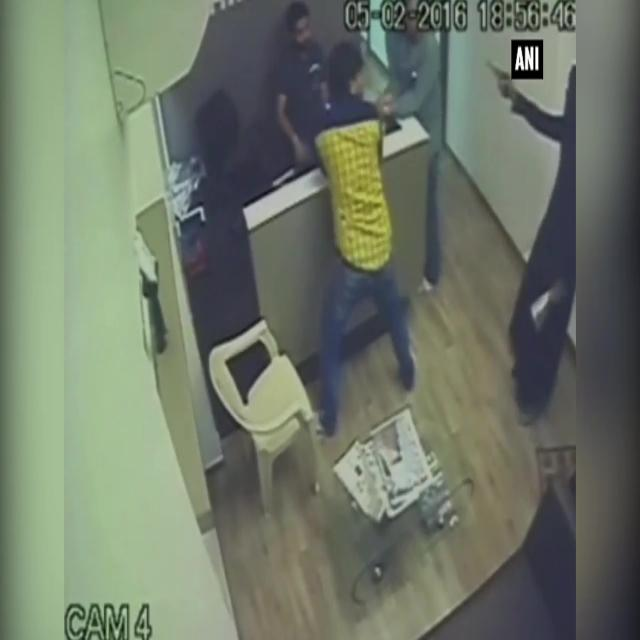Weapon: (482, 41, 522, 118)
